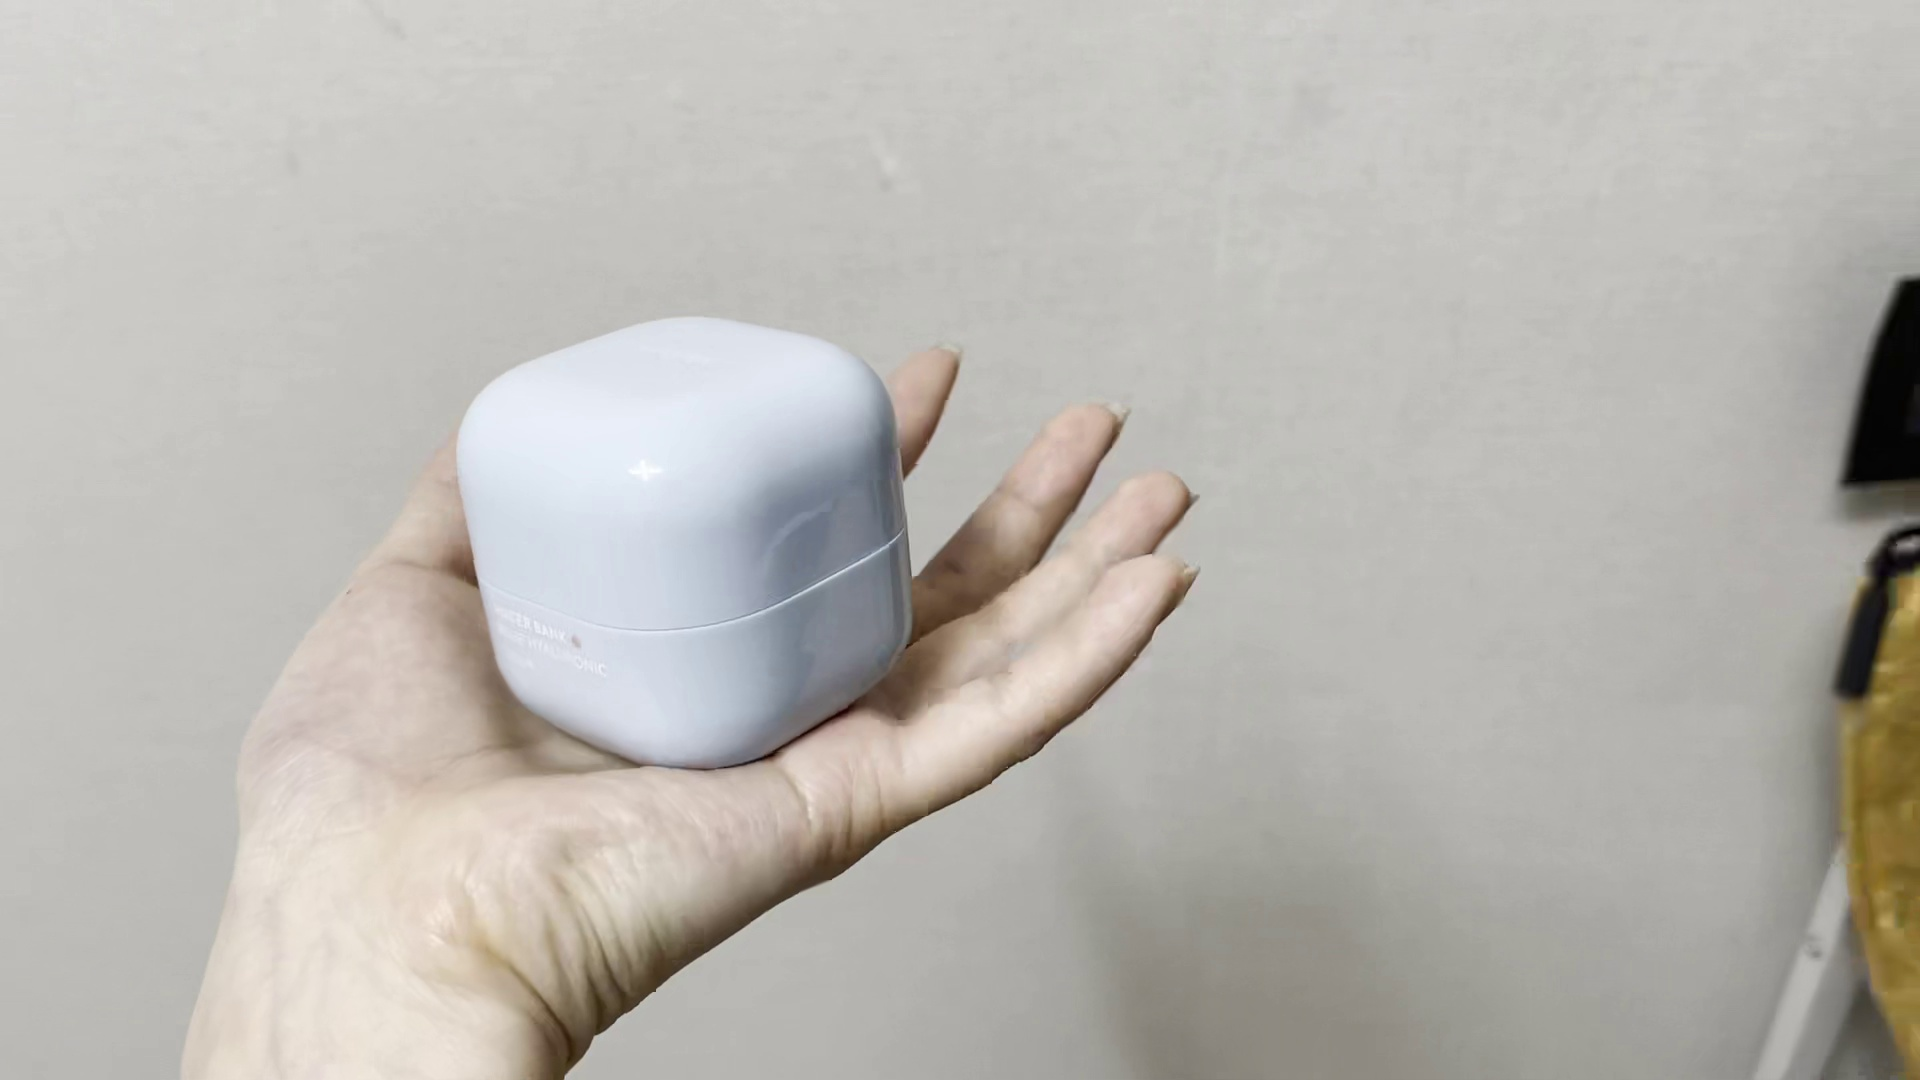cream: (458, 316, 916, 764)
